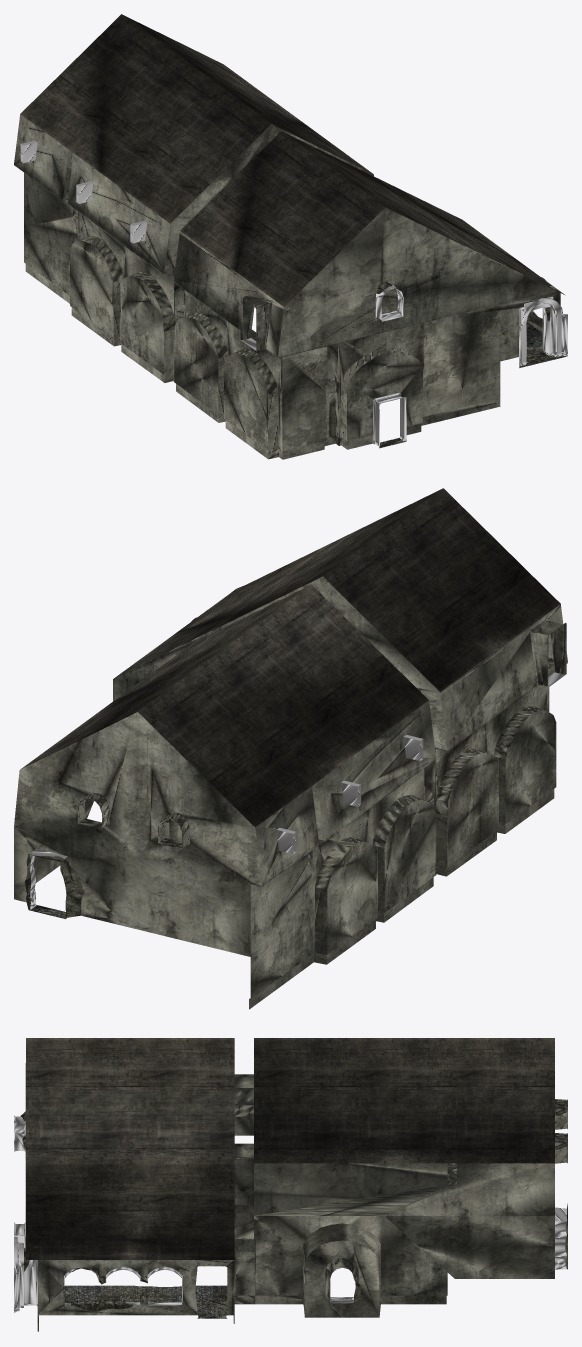
The picture shows the model from 3 angles, top to bottom: view 1: azimuth 30°, elevation 25°; view 2: azimuth 150°, elevation 25°; view 3: azimuth 270°, elevation 25°; orthographic projection. The views are drawn at different scales.
Parts seen in each view (by area): view 1: mesh2, mesh0, mesh1, mesh3; view 2: mesh2, mesh0, mesh1, mesh5; view 3: mesh0, mesh2, mesh1, mesh3, mesh5.
Part boxes in pixels (x1=…): mesh2: x1=14, y1=114, x2=560, y2=459; mesh0: x1=20, y1=14, x2=565, y2=306; mesh1: x1=20, y1=140, x2=567, y2=447; mesh3: x1=379, y1=322, x2=566, y2=448; mesh2: x1=14, y1=489, x2=567, y2=1009; mesh0: x1=20, y1=488, x2=560, y2=827; mesh1: x1=30, y1=631, x2=565, y2=909; mesh5: x1=24, y1=617, x2=196, y2=918; mesh0: x1=26, y1=1038, x2=554, y2=1259; mesh2: x1=25, y1=1063, x2=567, y2=1331; mesh1: x1=14, y1=1115, x2=566, y2=1312; mesh3: x1=63, y1=1285, x2=227, y2=1318; mesh5: x1=20, y1=1111, x2=567, y2=1311.
Bounding box in the file's own units: 15 × 11.01 × 23.57.
